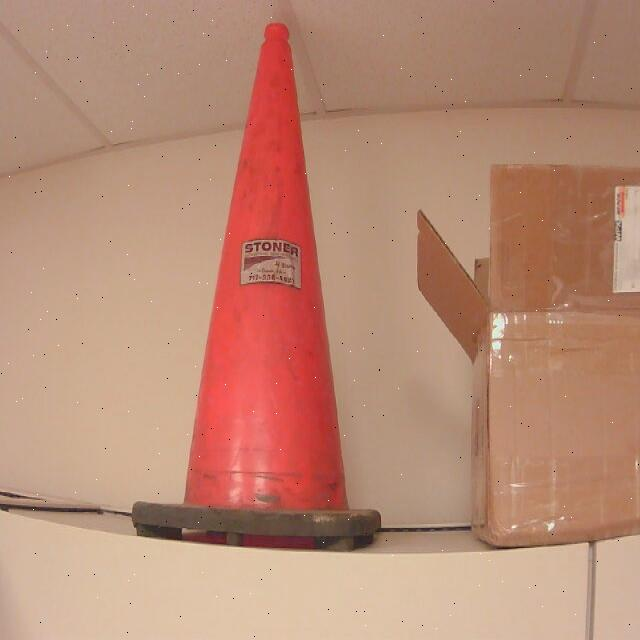traffic cone: (129, 24, 383, 553)
